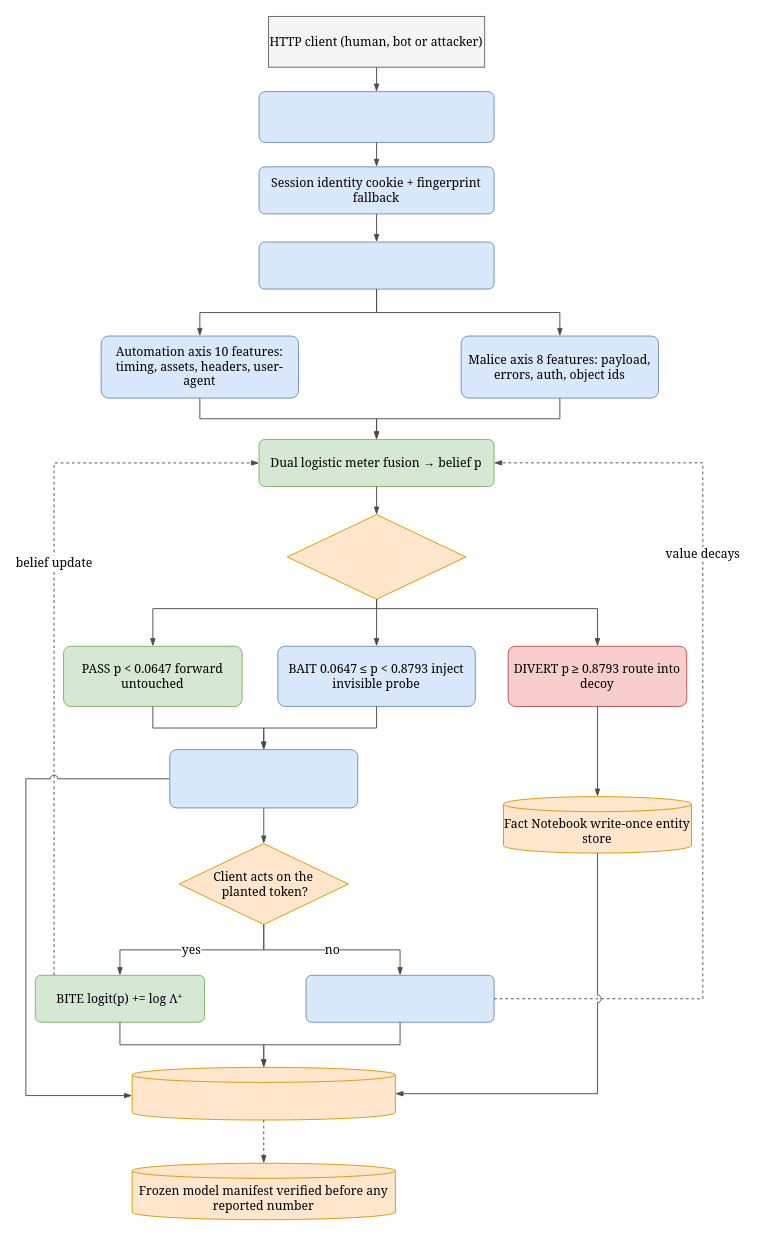
This 757x1236 diagram has some shape labels left out. The shapes that lost their labels are listed below. From the top down, each one's centre as x and y in pixels, then its label:
At point 376,116: "Reverse proxy Active Deception Framework".
At point 376,265: "Feature extraction 18 features, request-side only".
At point 376,556: "Priced policy EVSI decision rule".
At point 263,778: "Invisibility gate certificate re-checked at run time".
At point 399,998: "no bite survival discount (1−β)ᵏ".
At point 263,1093: "Hash-chained append-only log".
